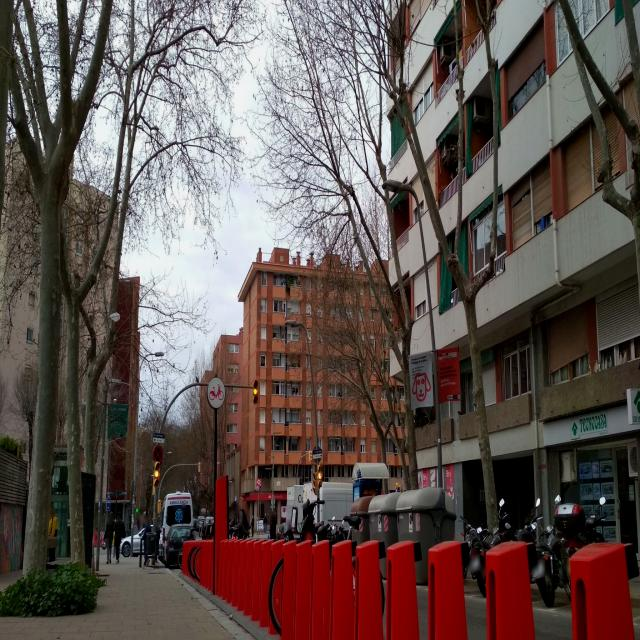bike: (536, 508, 596, 608)
car: (160, 490, 193, 562), (164, 521, 195, 568), (120, 522, 158, 558)
